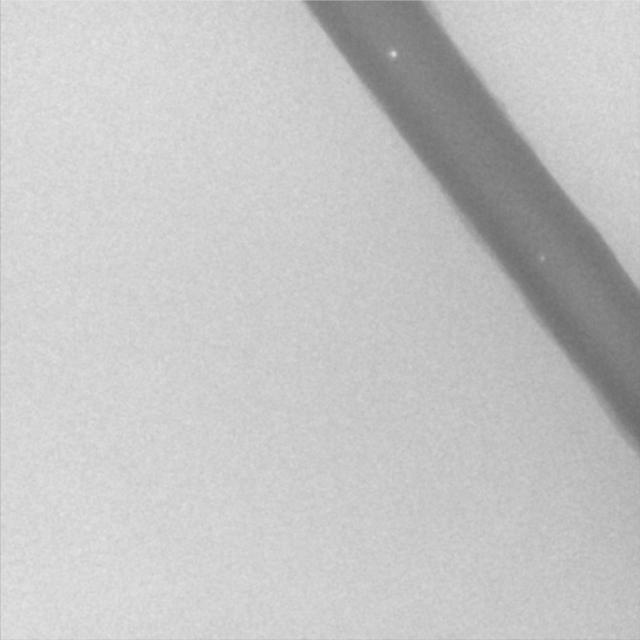air hole: (388, 48, 399, 60)
